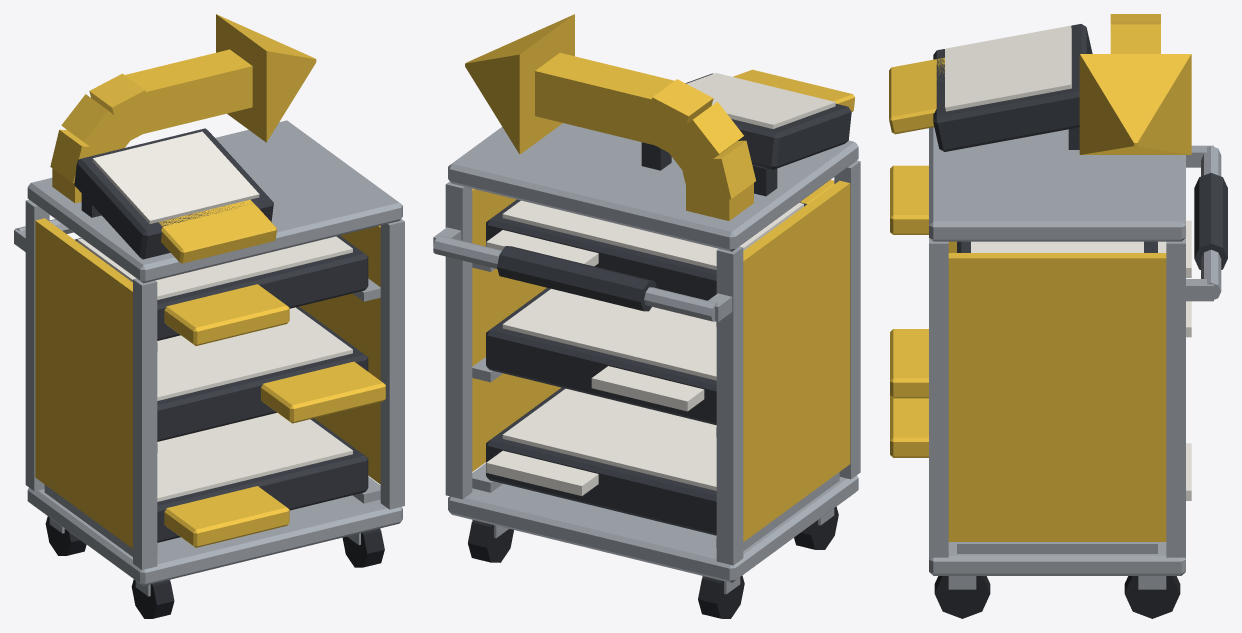
Rendered from delegation_core.glb.
The picture shows the model from 3 angles, left to right: view 1: azimuth 30°, elevation 25°; view 2: azimuth 150°, elevation 25°; view 3: azimuth 270°, elevation 25°; orthographic projection. The views are drawn at different scales.
Parts seen in each view (by area): view 1: delegation_core_mesh; view 2: delegation_core_mesh; view 3: delegation_core_mesh.
Boxes of the visible parts, bbox=[...] form: delegation_core_mesh: bbox=[14, 14, 404, 618]; delegation_core_mesh: bbox=[433, 14, 860, 618]; delegation_core_mesh: bbox=[889, 14, 1227, 618].
Bounding box in the file's own units: 0.61 × 1.06 × 0.6063.
